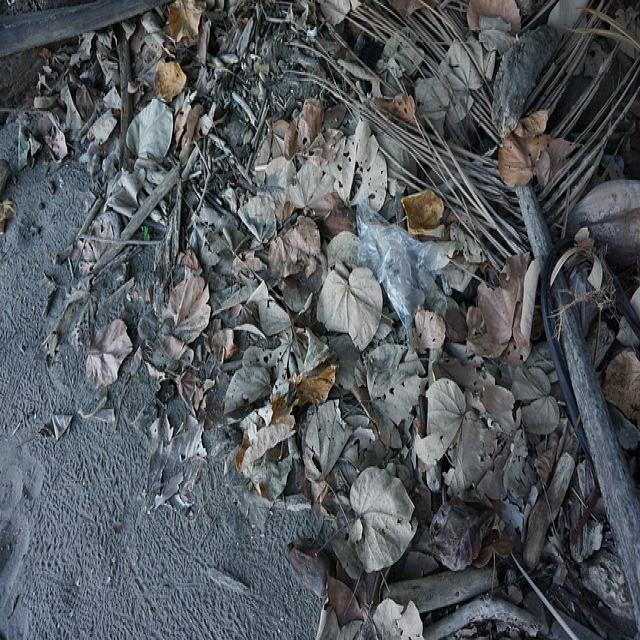Trash: (537, 239, 640, 467)
